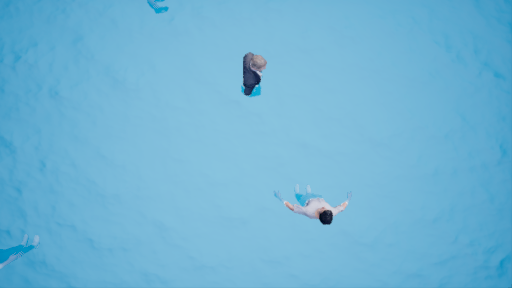person: (262, 170, 360, 225), (233, 44, 271, 101)
